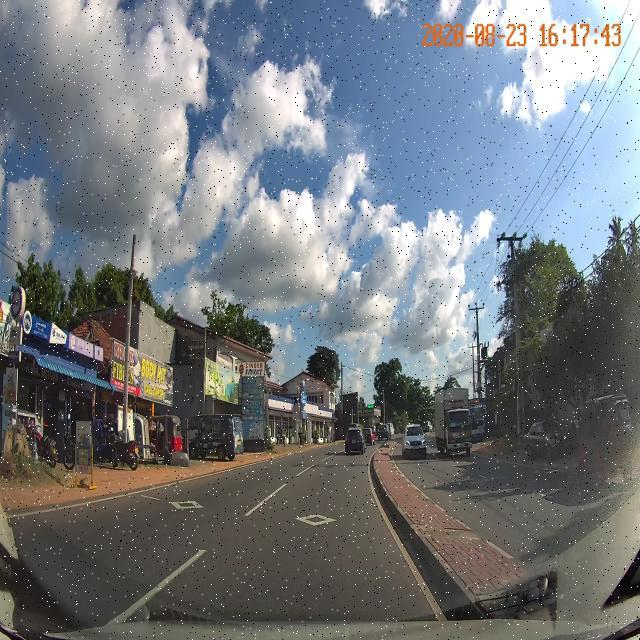diamond: (219, 500, 404, 541)
